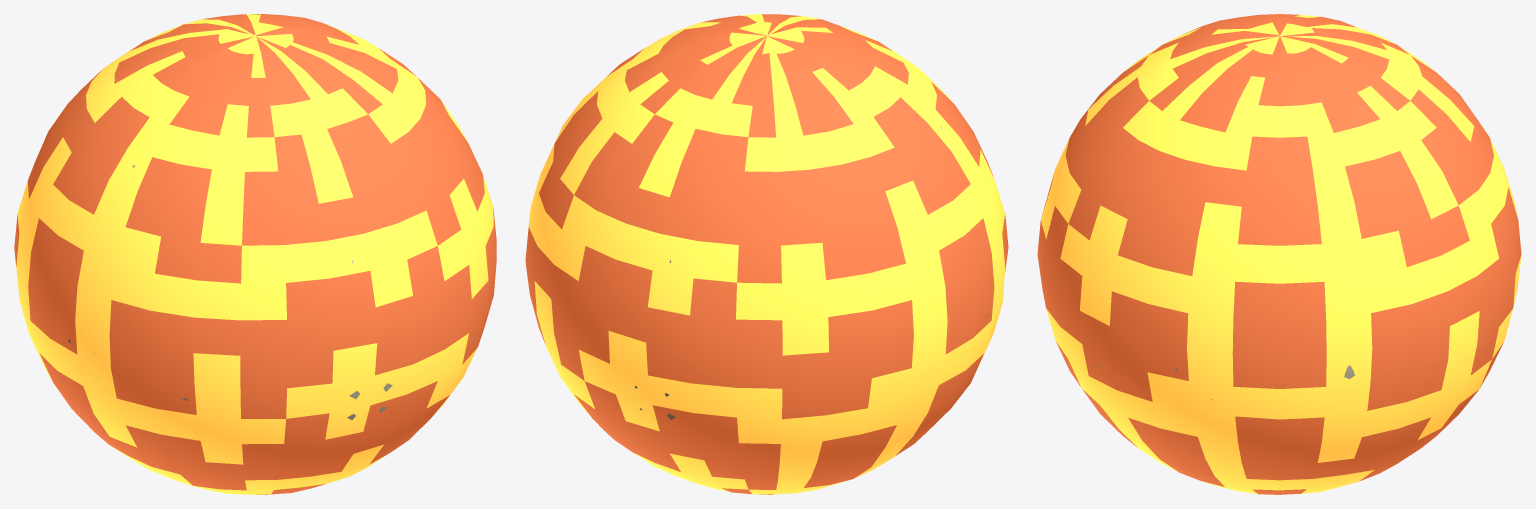
The model's file is planet-venus.glb.
3 views of the same model, side by side, from view 1: azimuth 30°, elevation 25°; view 2: azimuth 150°, elevation 25°; view 3: azimuth 270°, elevation 25° (orthographic).
Parts seen in each view (by area): view 1: Magma_Crust; view 2: Magma_Crust; view 3: Magma_Crust.
Part boxes in pixels (bbox=[...]): Magma_Crust: bbox=[14, 14, 496, 494]; Magma_Crust: bbox=[525, 14, 1008, 494]; Magma_Crust: bbox=[1037, 14, 1521, 494].
Size of the model in its own units: 2.02 by 2.03 by 2.03.
